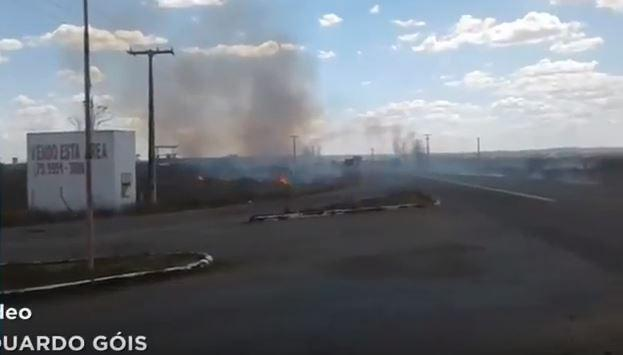smoke: (188, 55, 318, 145)
